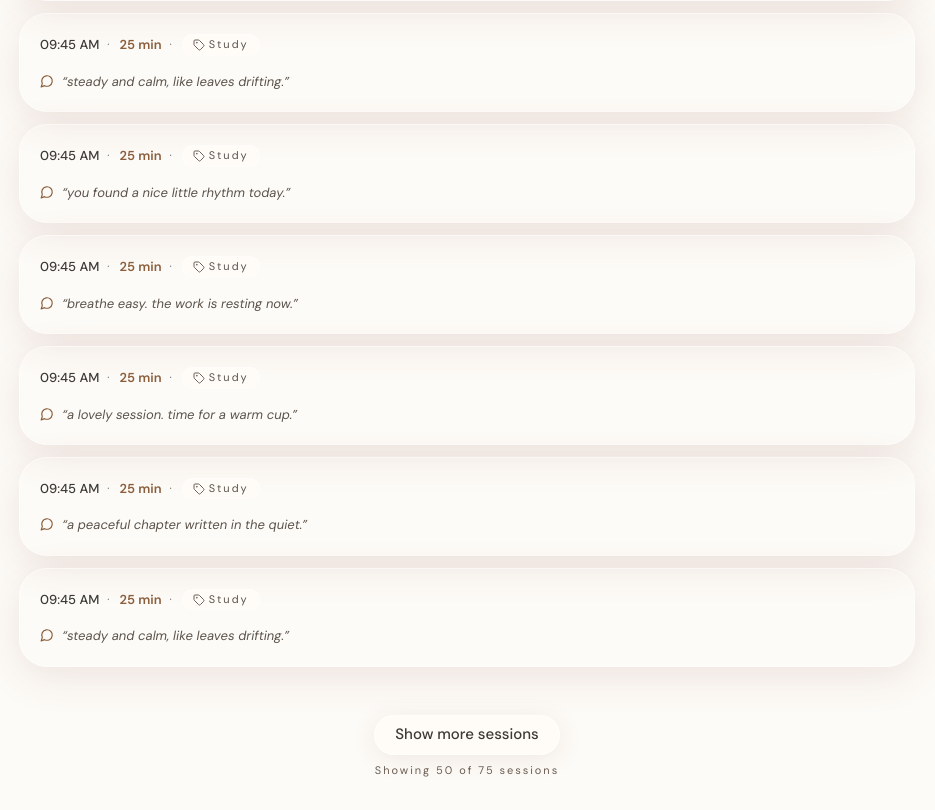
Test: JournalPage › handles pagination with "Show more" button when entries exceed 50
(page scrolled)
Expected: the text "Showing 50 of 75 sessions" is shown, [375,763,559,778]
Click the button "Show more sessions" at [467, 735], box [374,715,560,755]
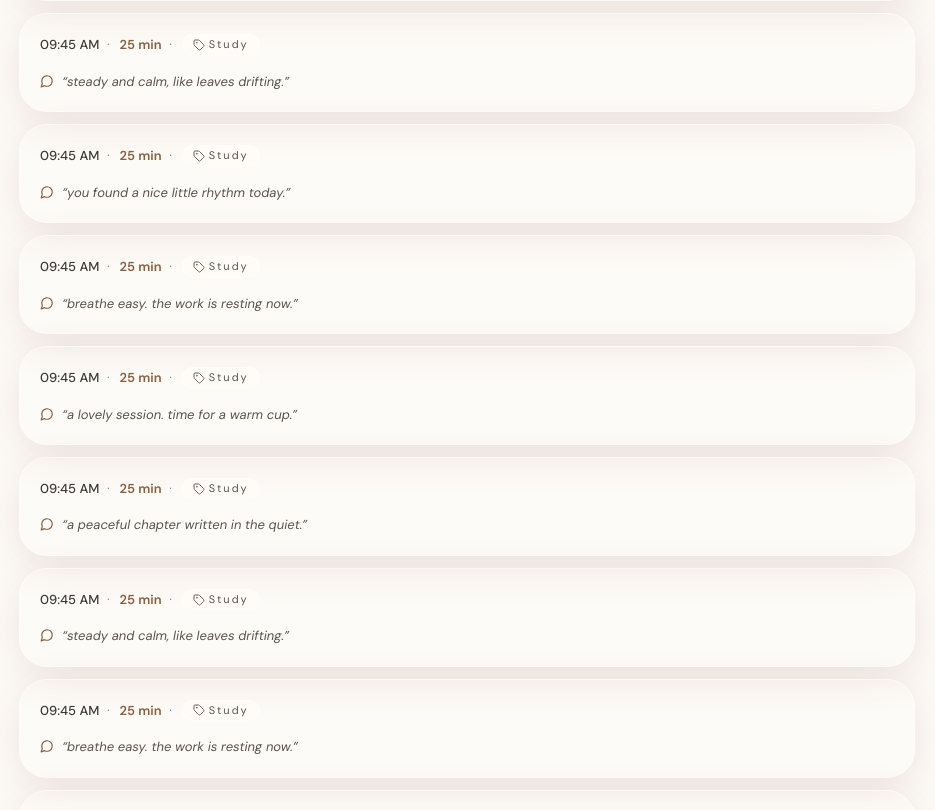
Expected: the button "Show more sessions" is gone
